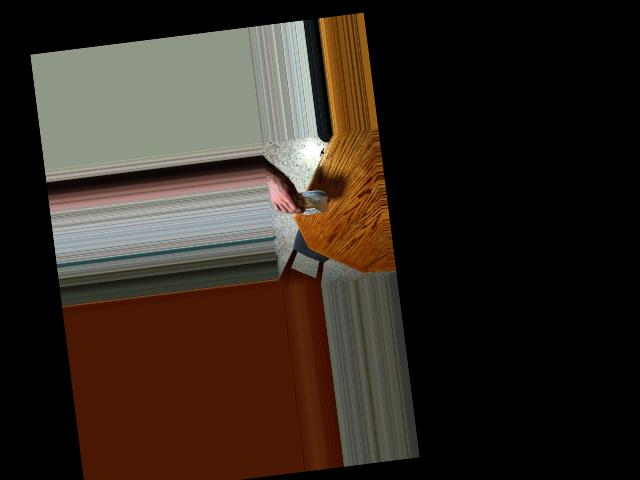cheese: (278, 181, 327, 225)
